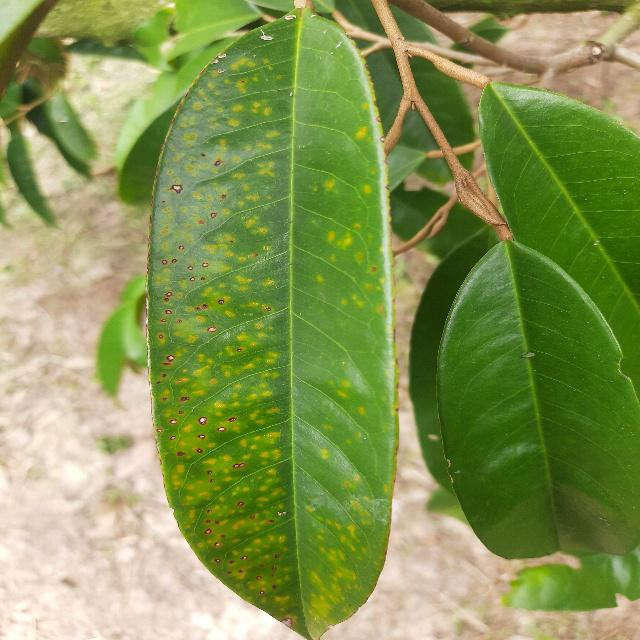Leaf Spot: (139, 0, 406, 639)
